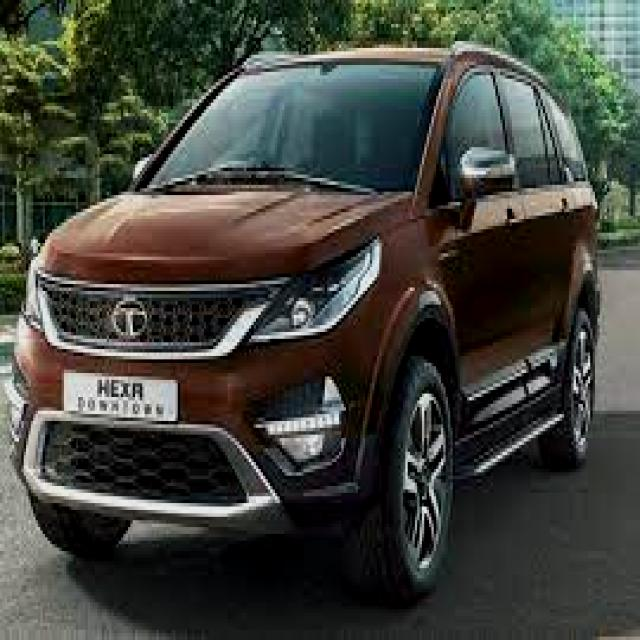SUV: (11, 35, 601, 606)
